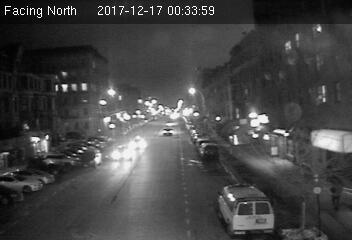car: (109, 144, 137, 163), (161, 128, 174, 136)
police: (218, 181, 278, 233)
